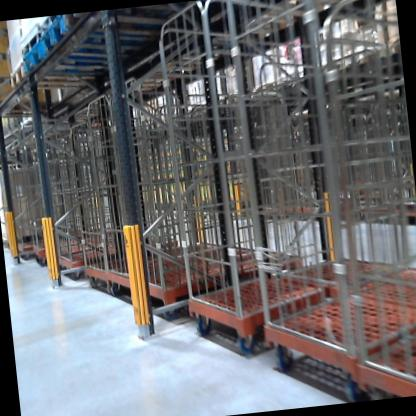pallet: (21, 8, 182, 88), (1, 51, 128, 97), (0, 93, 59, 119), (0, 160, 20, 173)
